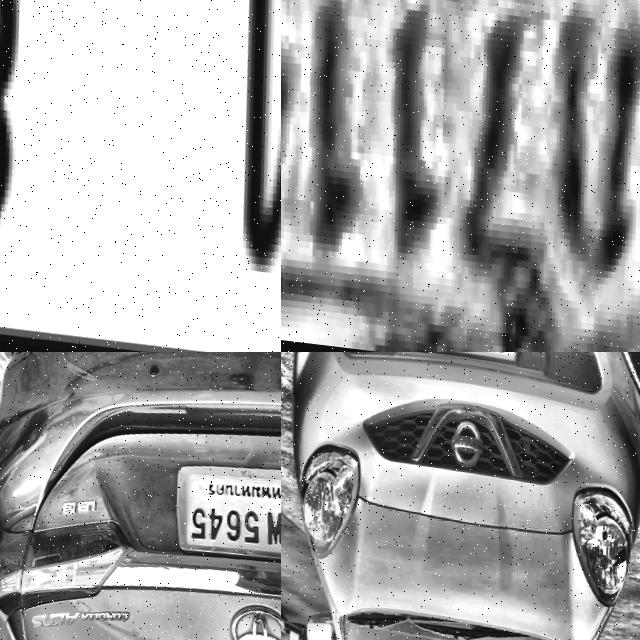license-plate: (281, 0, 640, 352), (0, 0, 281, 352), (152, 450, 281, 573)
